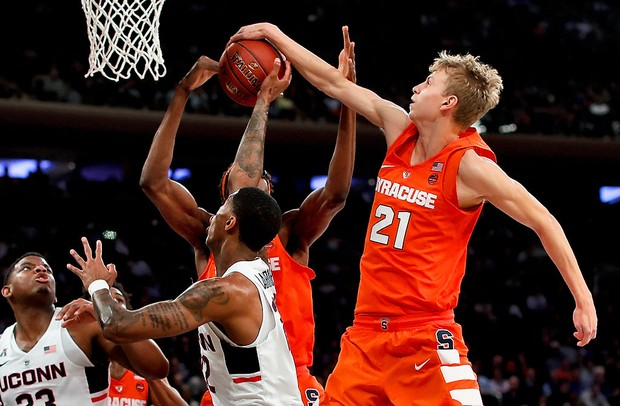ball: (222, 30, 298, 115)
block: (218, 14, 558, 406)
